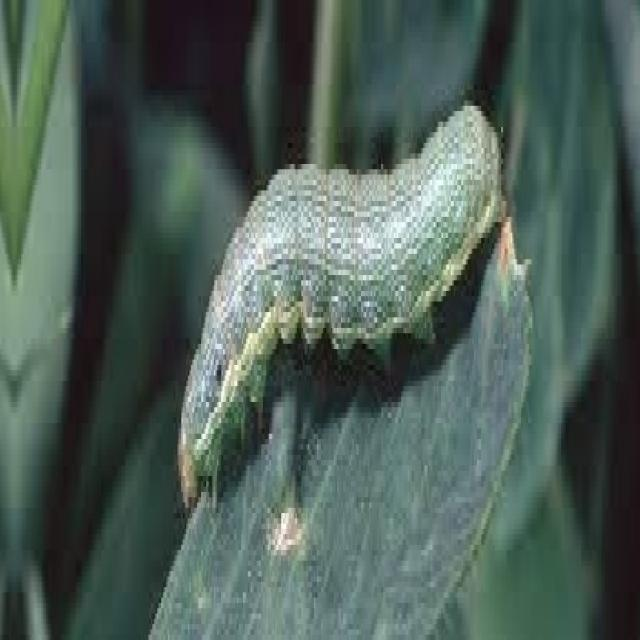Armyworm: (167, 94, 516, 541)
